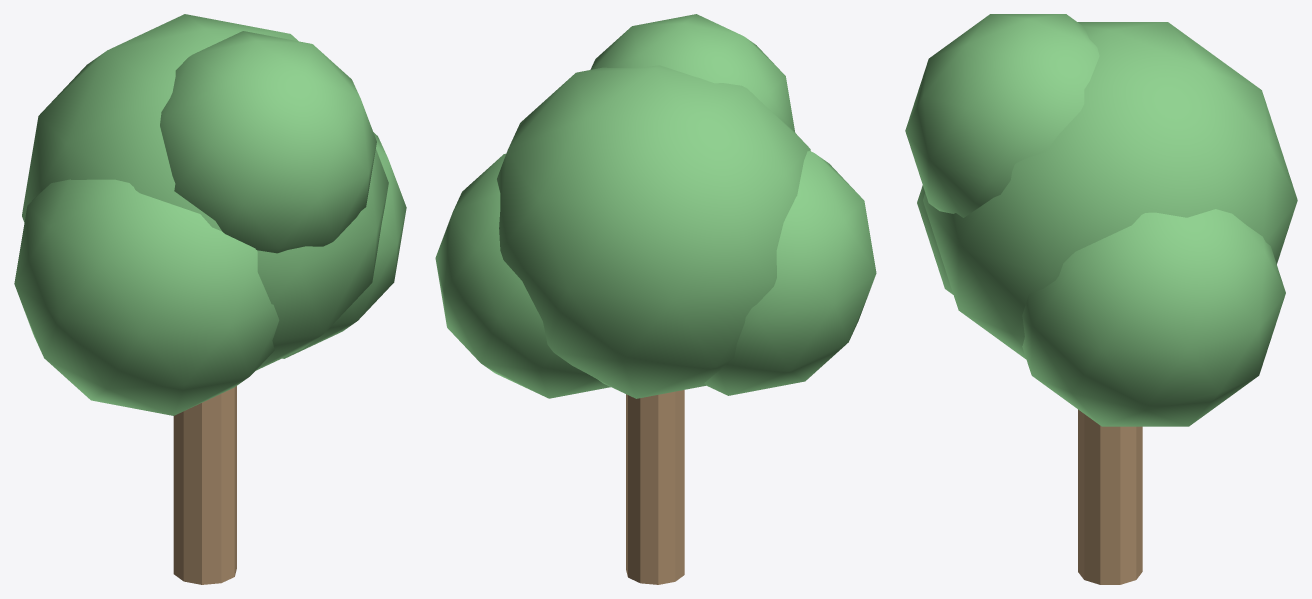
The model's file is Tree.fbx.
3 views of the same model, side by side, from view 1: azimuth 30°, elevation 25°; view 2: azimuth 150°, elevation 25°; view 3: azimuth 270°, elevation 25° (orthographic). The views are drawn at different scales.
Parts seen in each view (by area): view 1: Leaf, Wood; view 2: Leaf, Wood; view 3: Leaf, Wood.
Part boxes in pixels (x1,y1,x2,y2): Leaf: (14,14,406,415); Wood: (173,386,236,584); Leaf: (435,14,876,398); Wood: (626,390,684,584); Leaf: (905,14,1297,426); Wood: (1078,409,1142,584).
Bounding box in the file's own units: 766 × 1050 × 670.
